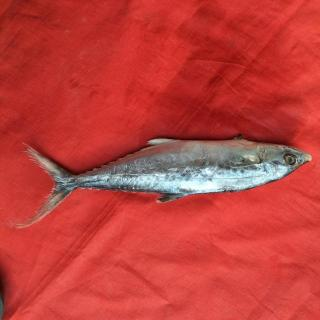Ikan: (1, 119, 313, 235)
